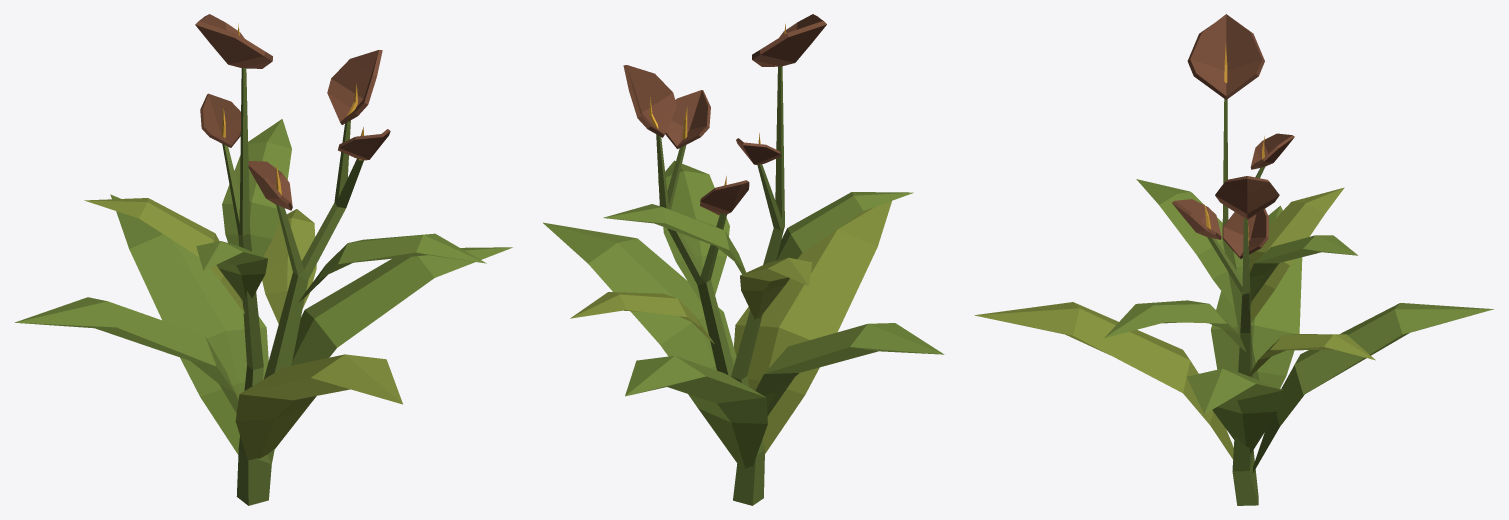
The model's file is Flower_4.fbx.
3 views of the same model, side by side, from view 1: azimuth 30°, elevation 25°; view 2: azimuth 150°, elevation 25°; view 3: azimuth 270°, elevation 25° (orthographic). The views are drawn at different scales.
Parts seen in each view (by area): view 1: Flower_4; view 2: Flower_4; view 3: Flower_4.
Part boxes in pixels (box(x1,y1,x2,y2)): Flower_4: box(15, 14, 512, 505); Flower_4: box(543, 14, 944, 505); Flower_4: box(974, 14, 1493, 505).
Size of the model in its own units: 93.23 by 97.81 by 101.
